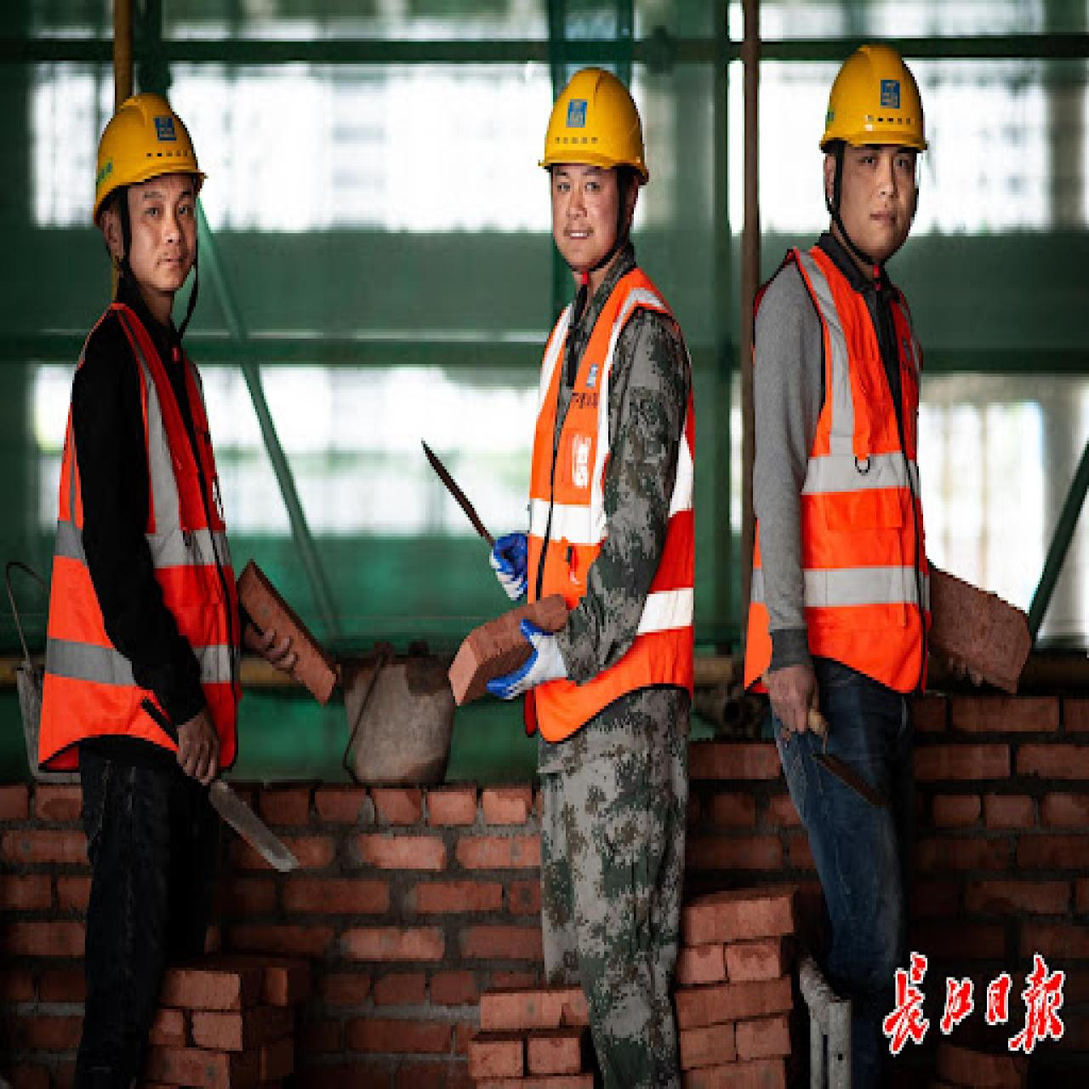Person: (413, 41, 718, 1081), (30, 86, 316, 1078), (741, 23, 977, 1089)
Safety_Vest: (35, 315, 246, 813), (503, 278, 697, 752), (747, 242, 939, 714)
